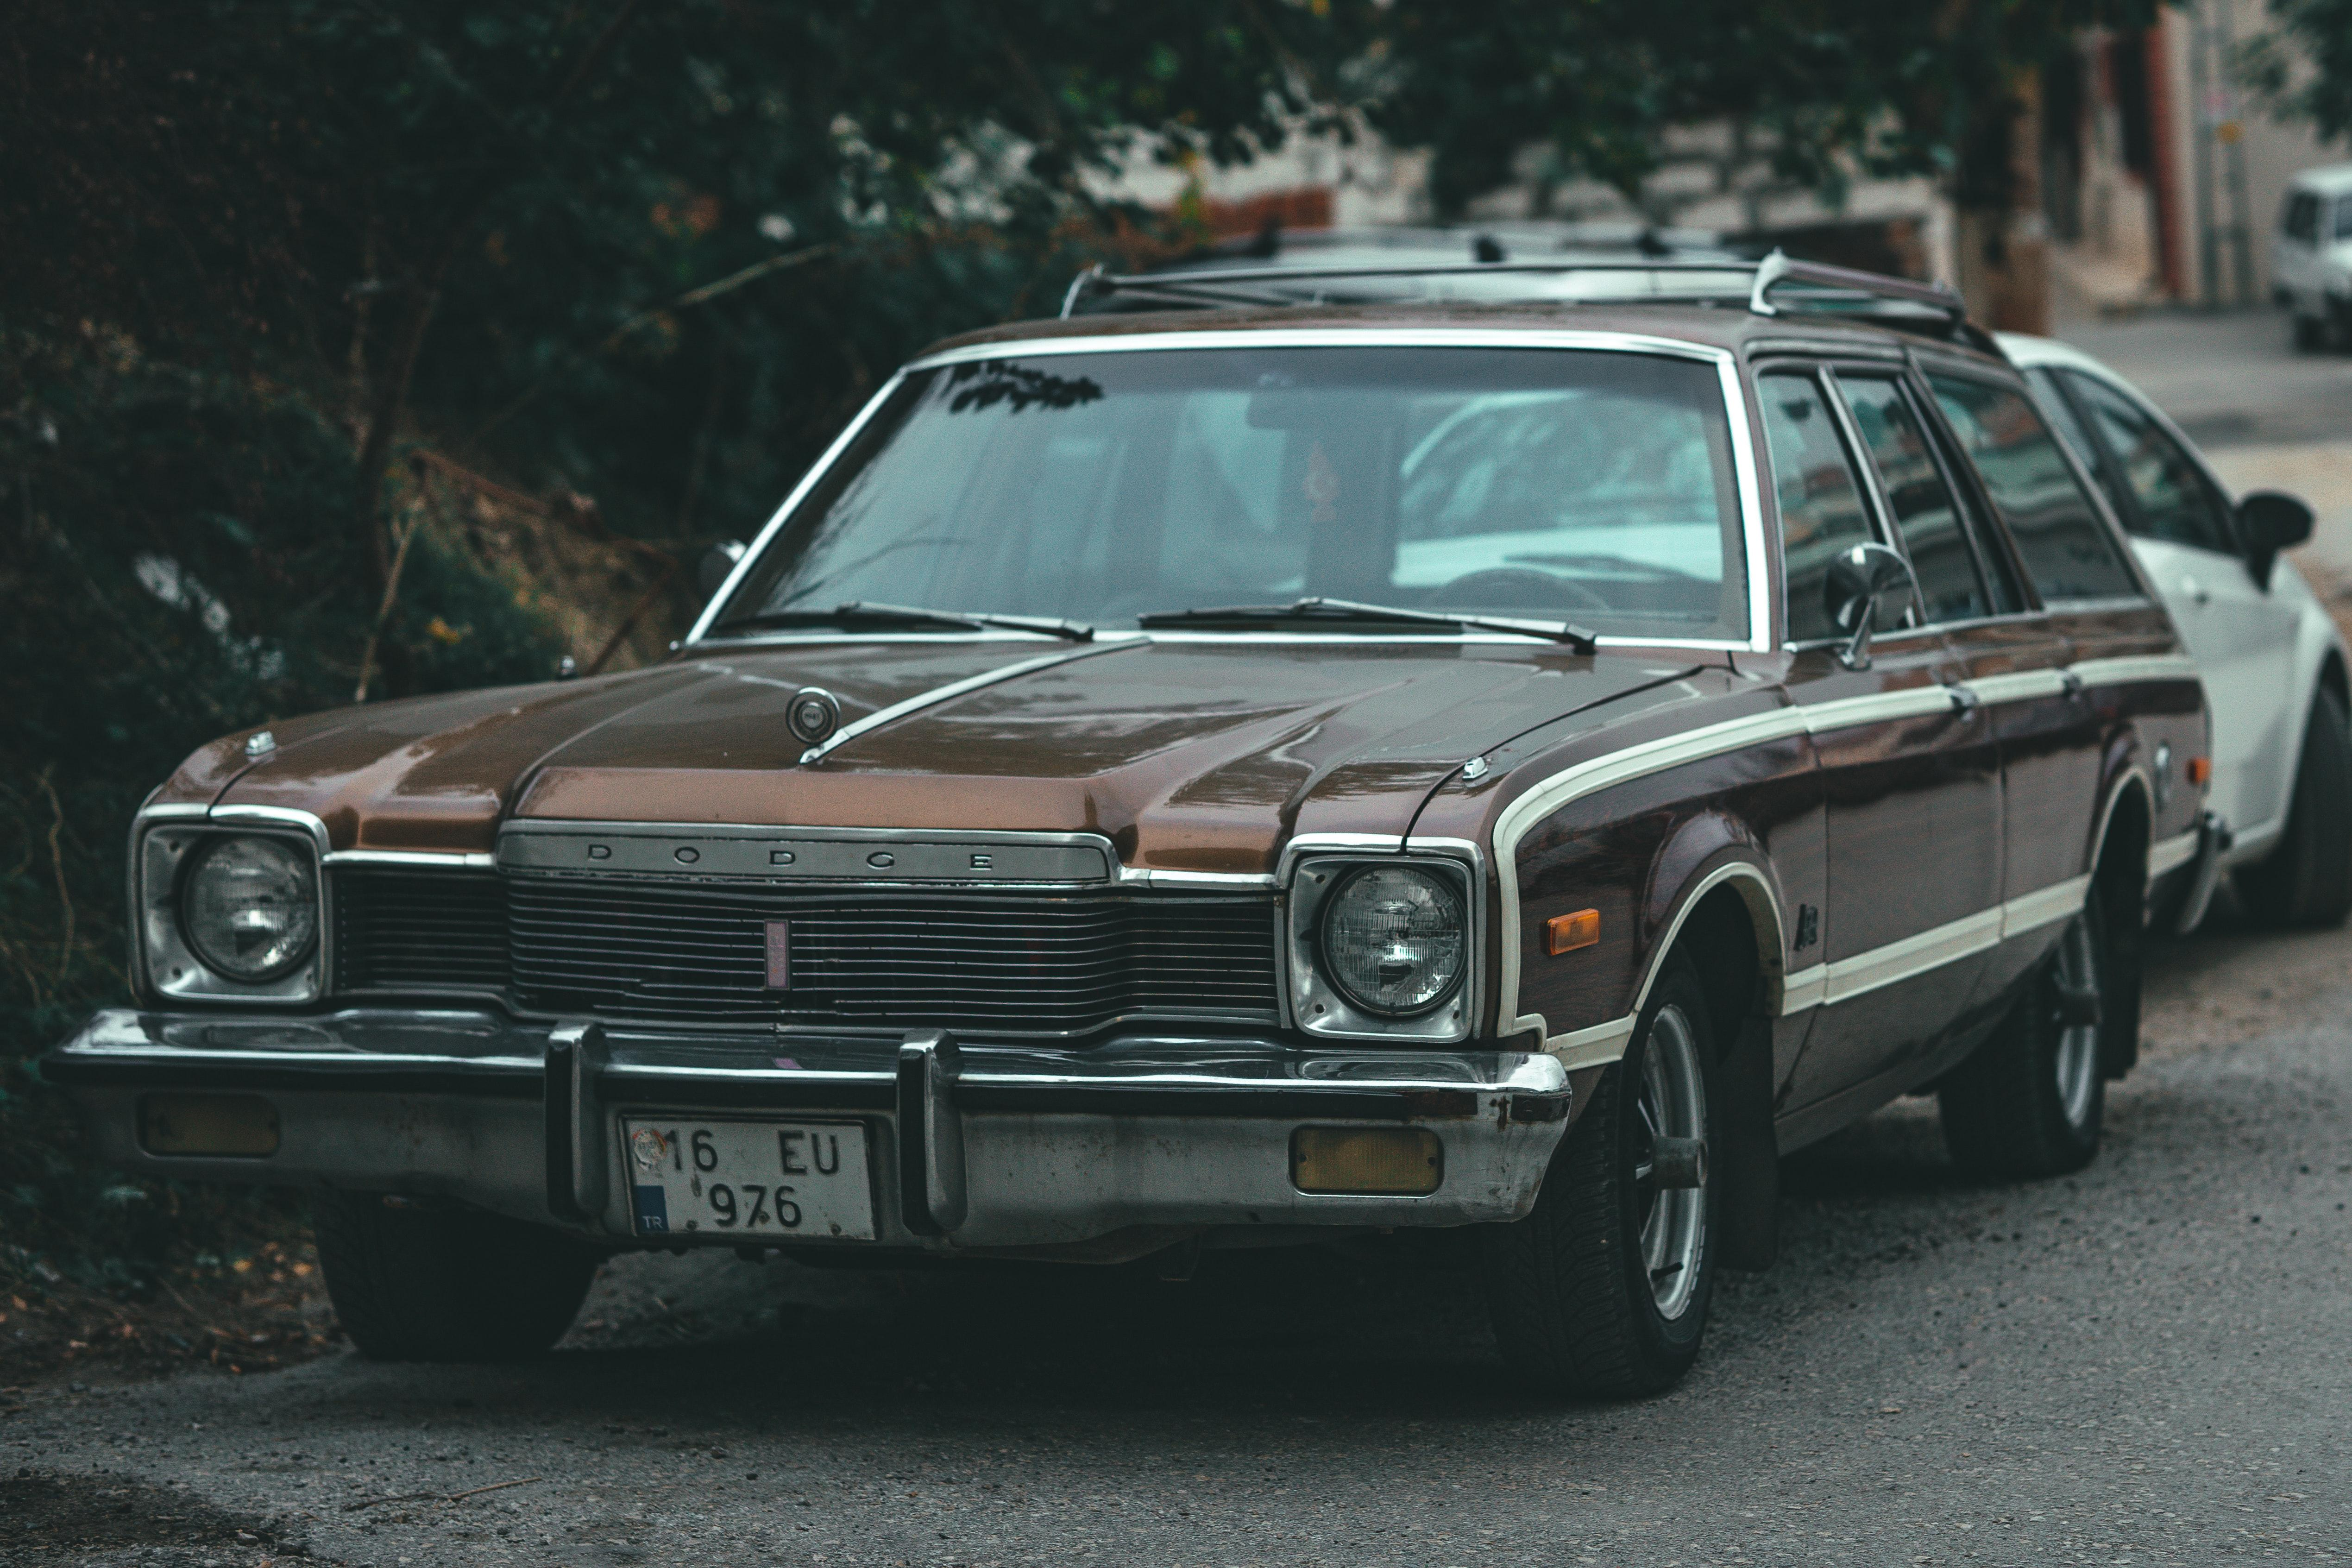dodge: (560, 824, 1034, 892)
